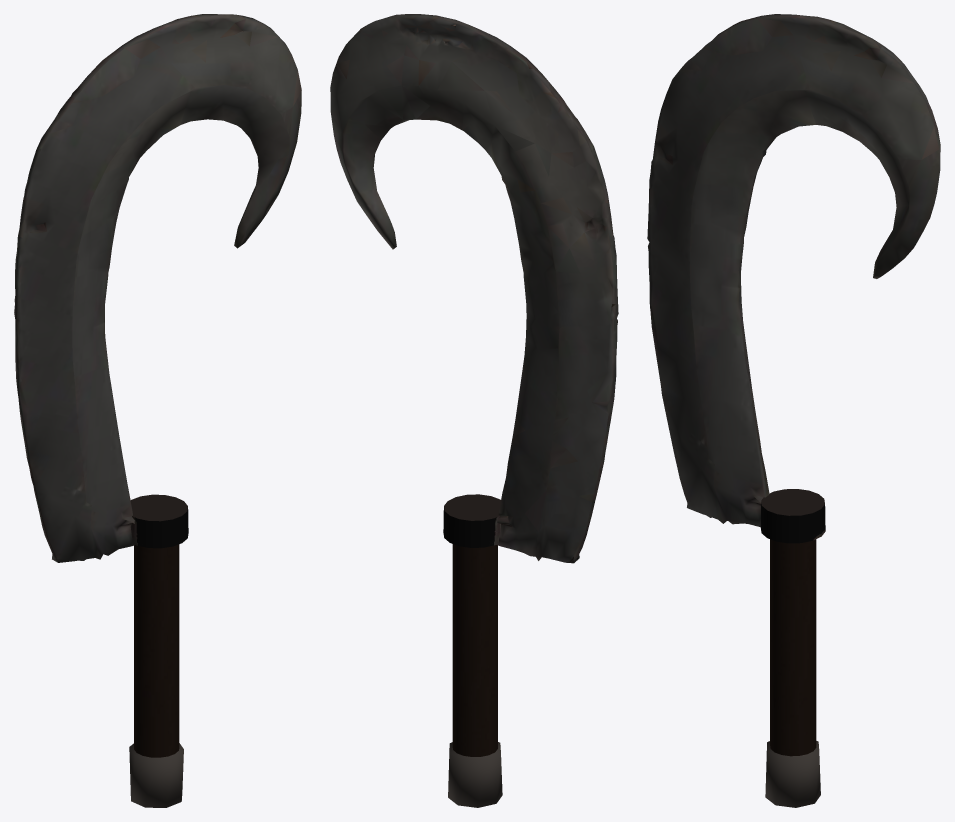
The model's file is knife.glb.
3 views of the same model, side by side, from view 1: azimuth 30°, elevation 25°; view 2: azimuth 150°, elevation 25°; view 3: azimuth 330°, elevation 25° (orthographic).
Parts seen in each view (by area): view 1: WeaponDrawn; view 2: WeaponDrawn; view 3: WeaponDrawn.
Boxes of the visible parts, left/top/right/bottom form: WeaponDrawn: left=14, top=14, right=301, bottom=807; WeaponDrawn: left=330, top=14, right=618, bottom=807; WeaponDrawn: left=647, top=14, right=940, bottom=807.
Bounding box in the file's own units: 0.2441 × 0.6297 × 0.0476.
2 materials, 2 textured.
